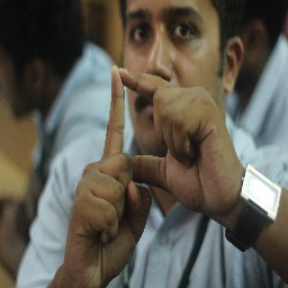D: (98, 64, 205, 203)
